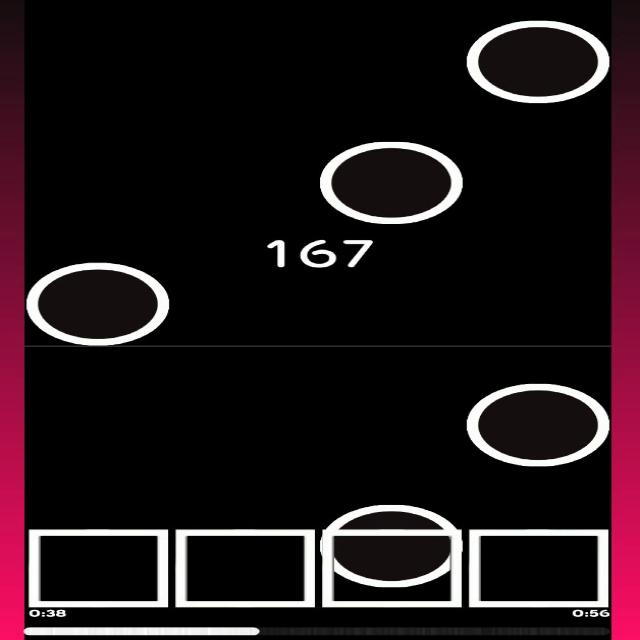note: (318, 138, 466, 224), (466, 16, 609, 104), (28, 261, 171, 348), (321, 501, 464, 588), (466, 382, 609, 465)
